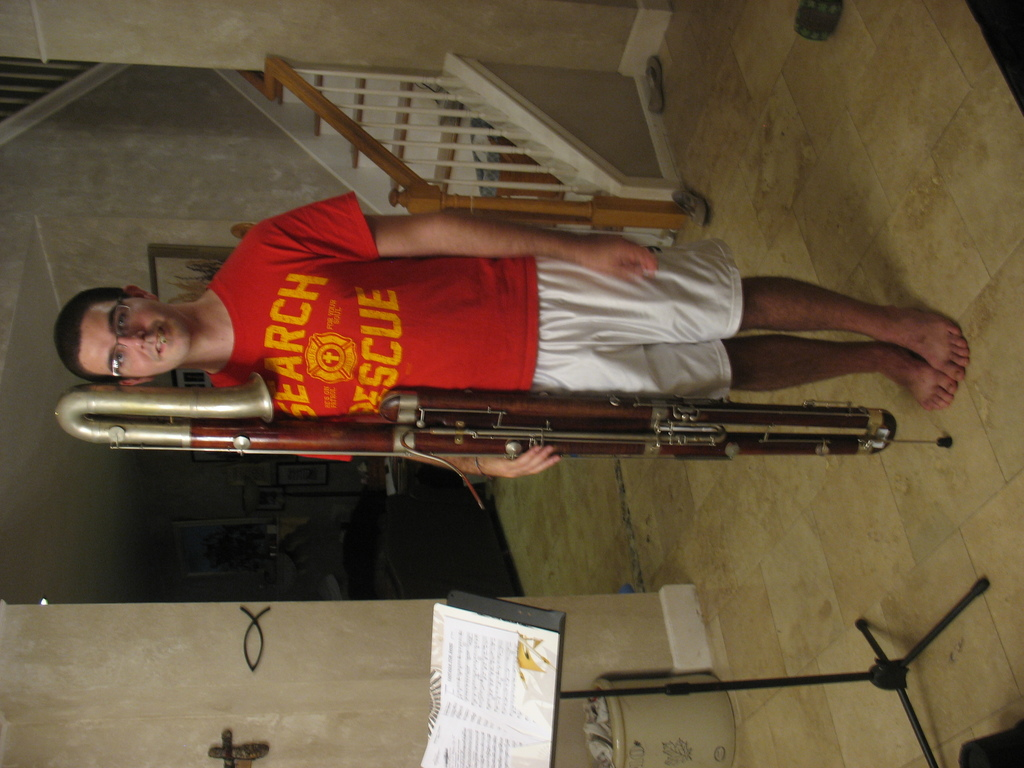Person: (53, 190, 968, 477)
